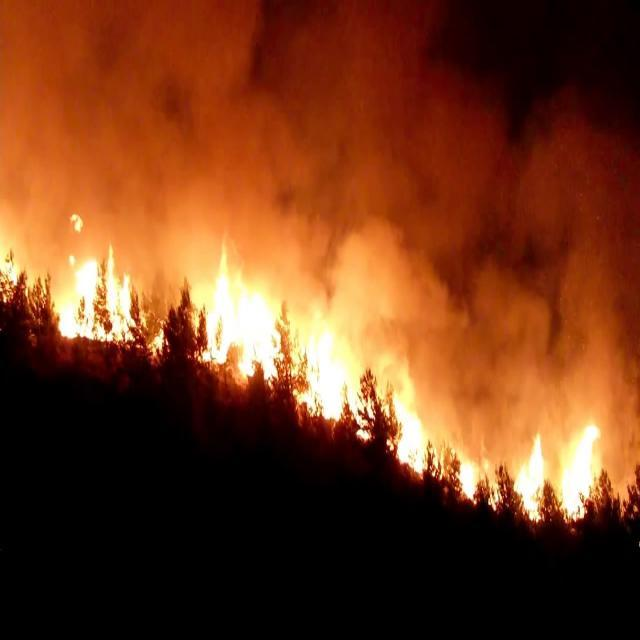Fire: (187, 235, 507, 512), (0, 242, 170, 362), (513, 418, 603, 524), (70, 212, 84, 233)
Smoke: (0, 1, 640, 516)
